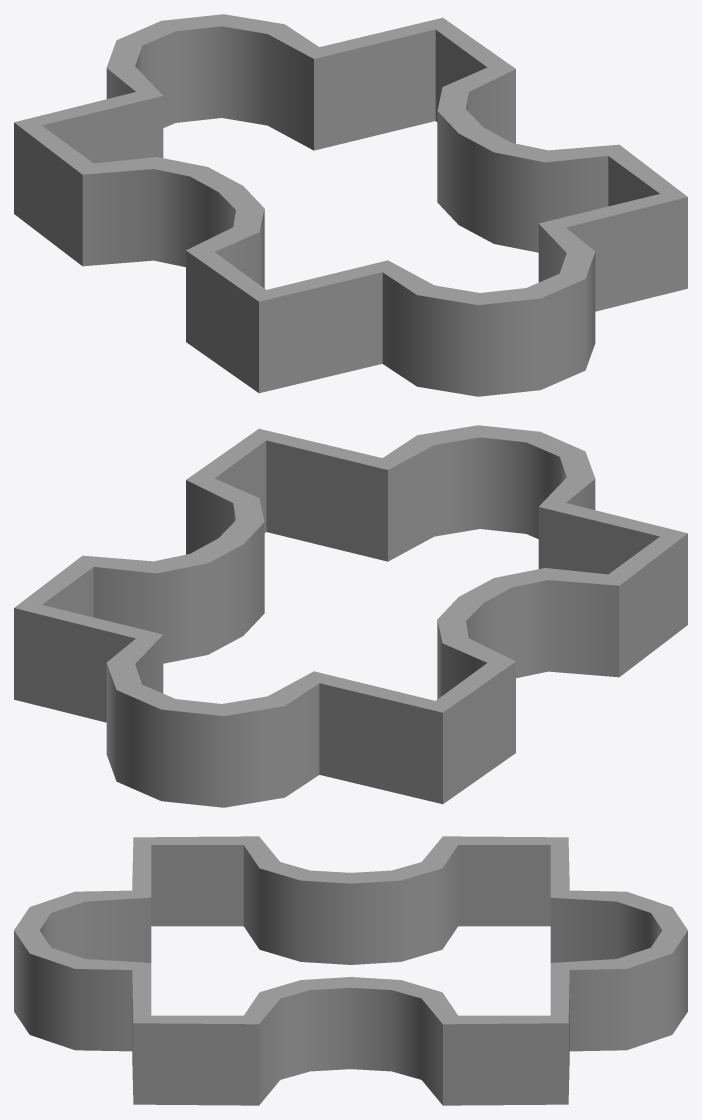
File: BiscuitCutter_PuzzleMiddle_01.fbx
3 renders of one model, top to bottom at view 1: azimuth 30°, elevation 25°; view 2: azimuth 150°, elevation 25°; view 3: azimuth 270°, elevation 25°, orthographic. The views are drawn at different scales.
Parts seen in each view (by area): view 1: BiscuitCutter_PuzzleMiddle_01; view 2: BiscuitCutter_PuzzleMiddle_01; view 3: BiscuitCutter_PuzzleMiddle_01.
Boxes of the visible parts, bbox=[...] form: BiscuitCutter_PuzzleMiddle_01: bbox=[14, 14, 687, 396]; BiscuitCutter_PuzzleMiddle_01: bbox=[14, 425, 687, 807]; BiscuitCutter_PuzzleMiddle_01: bbox=[14, 836, 687, 1105].
Size of the model in its own units: 0.0632 by 0.0128 by 0.0958.
